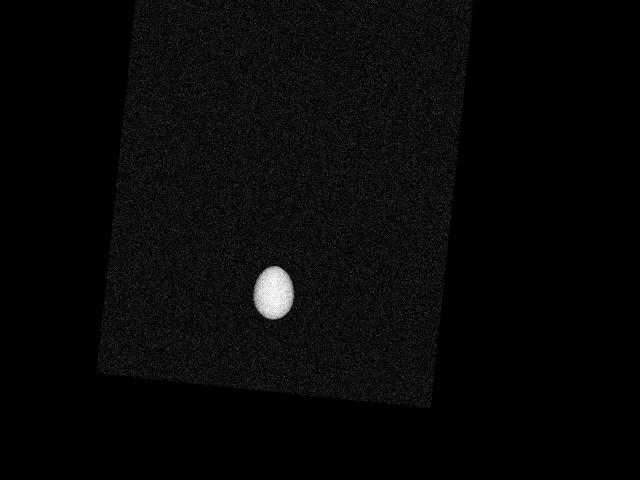egg: (250, 264, 296, 321)
